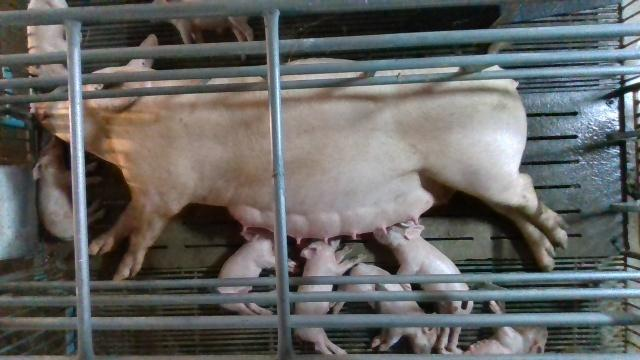piglet: (373, 221, 473, 351), (330, 264, 439, 354), (294, 238, 368, 354), (32, 137, 104, 243), (216, 229, 297, 316), (153, 0, 253, 43), (466, 302, 547, 353), (27, 0, 68, 78)
sow-sleep-lactate: (30, 35, 568, 278)
